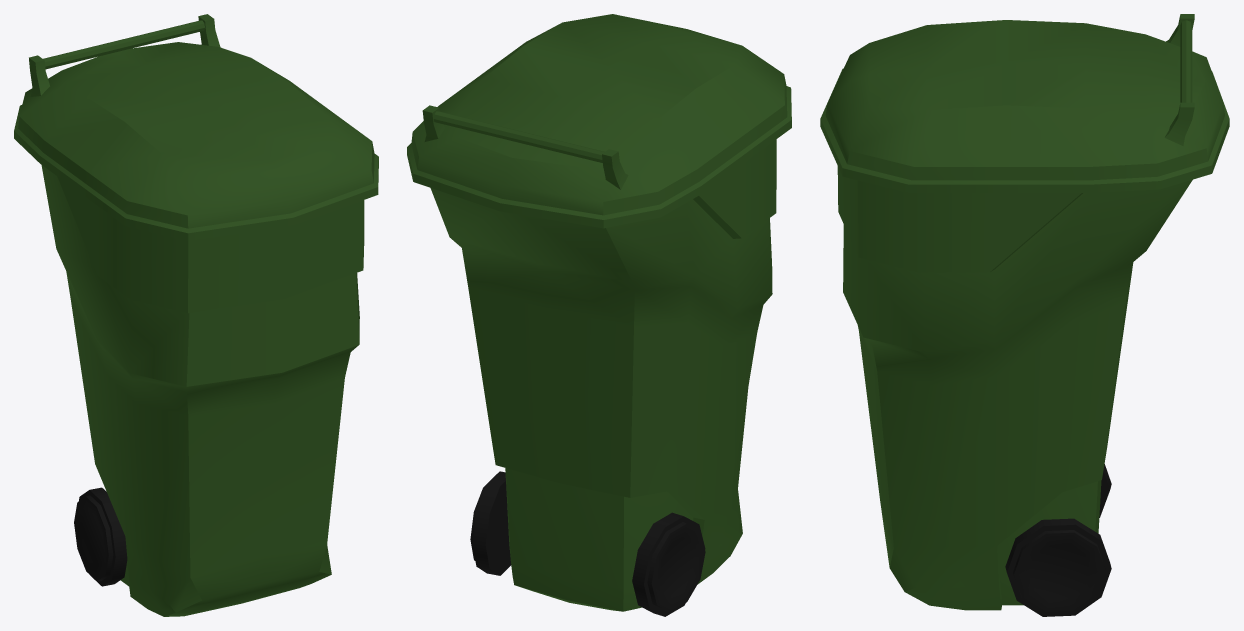
Rendered from Trashcan_Green.glb.
The picture shows the model from 3 angles, left to right: view 1: azimuth 30°, elevation 25°; view 2: azimuth 150°, elevation 25°; view 3: azimuth 270°, elevation 25°; orthographic projection. The views are drawn at different scales.
Parts seen in each view (by area): view 1: Trashcan_Green; view 2: Trashcan_Green; view 3: Trashcan_Green.
Boxes of the visible parts, bbox=[...] form: Trashcan_Green: bbox=[14, 14, 378, 616]; Trashcan_Green: bbox=[407, 14, 791, 616]; Trashcan_Green: bbox=[820, 14, 1229, 616].
Size of the model in its own units: 122 by 221 by 159.
